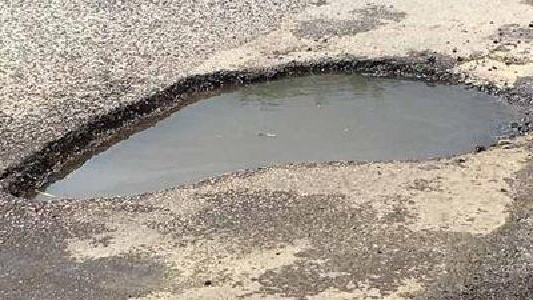pothole: (3, 57, 532, 207)
